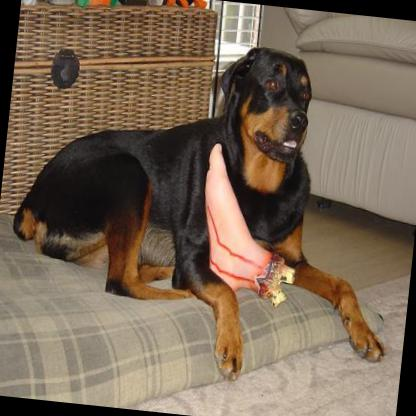Rottweiler: (0, 17, 416, 396)
